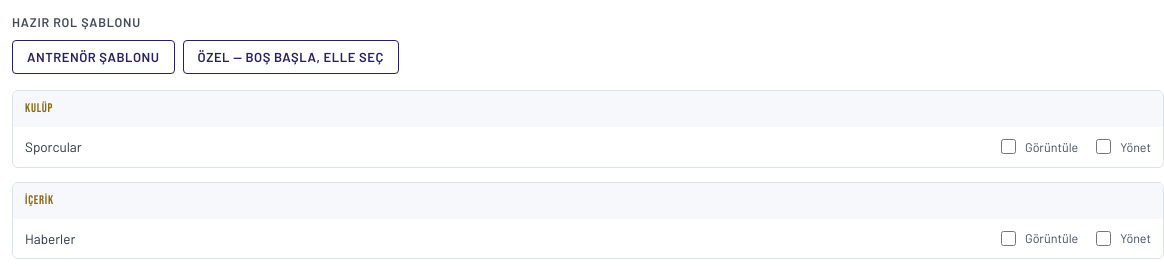
Test: PermissionMatrix › 'Yönet' işaretlenince 'Görüntüle' de otomatik işaretlenir
The image size is (1164, 276).
Expected: the checkbox with test id "perm-sporcular-view" is not checked, left=1001, top=139, right=1016, bottom=154
Click the checkbox with test id "perm-sporcular-manage" at coordinates (1104, 147), box left=1096, top=139, right=1111, bottom=154
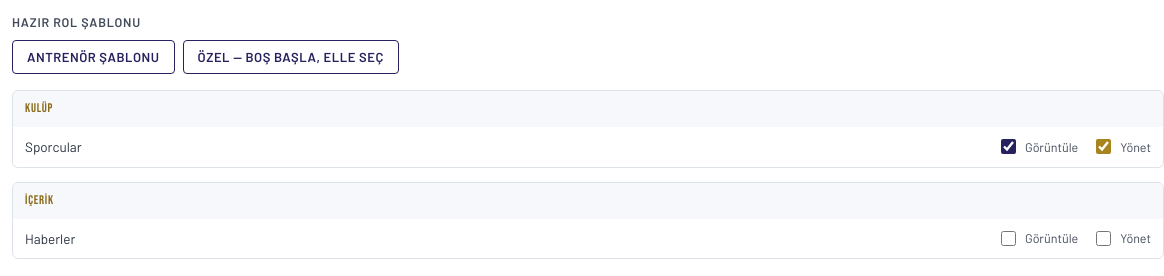
Result: the checkbox with test id "perm-sporcular-manage" is checked at left=1096, top=139, right=1111, bottom=154
Result: the checkbox with test id "perm-sporcular-view" is checked at left=1001, top=139, right=1016, bottom=154
